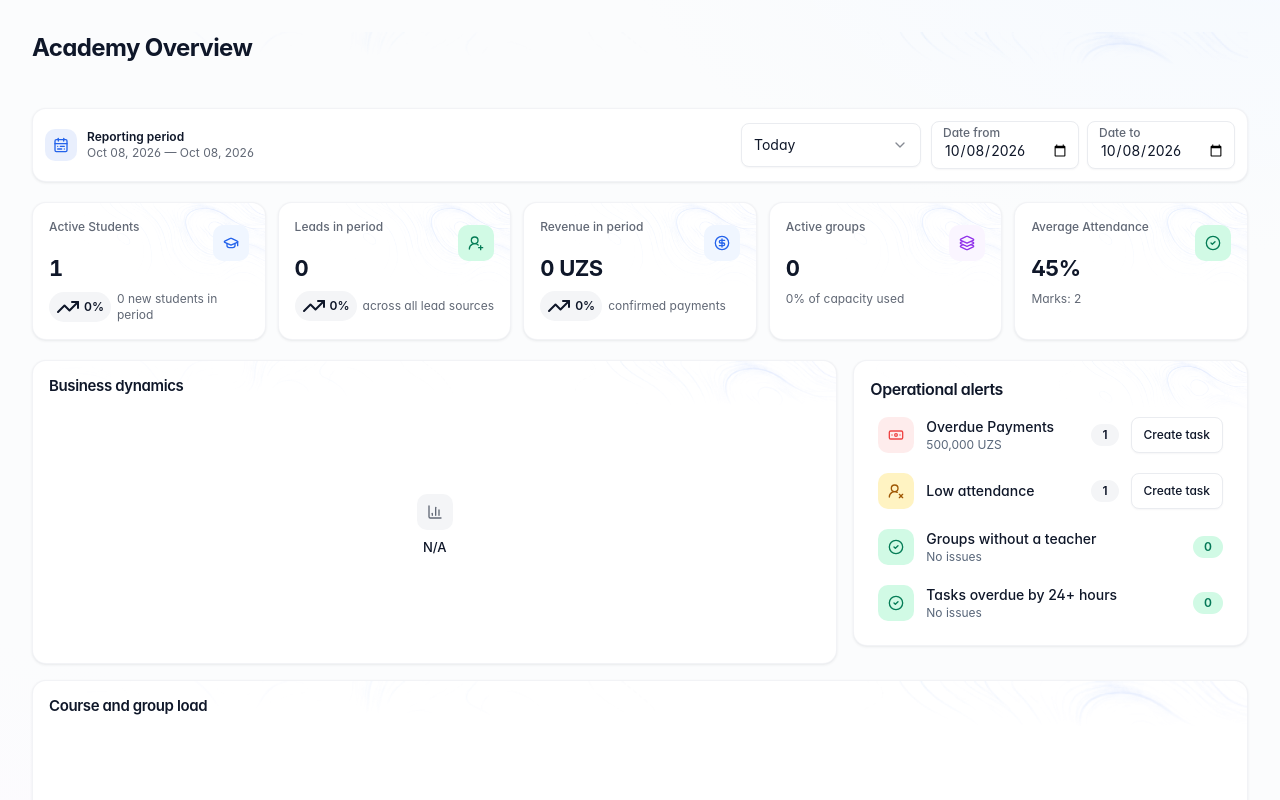
Test: opens payment and attendance alert records in admin dialogs without requiring sales navigation
Click the button "Overdue Payments 500,000 UZS 1" at (998, 434), box [878,416,1118,452]
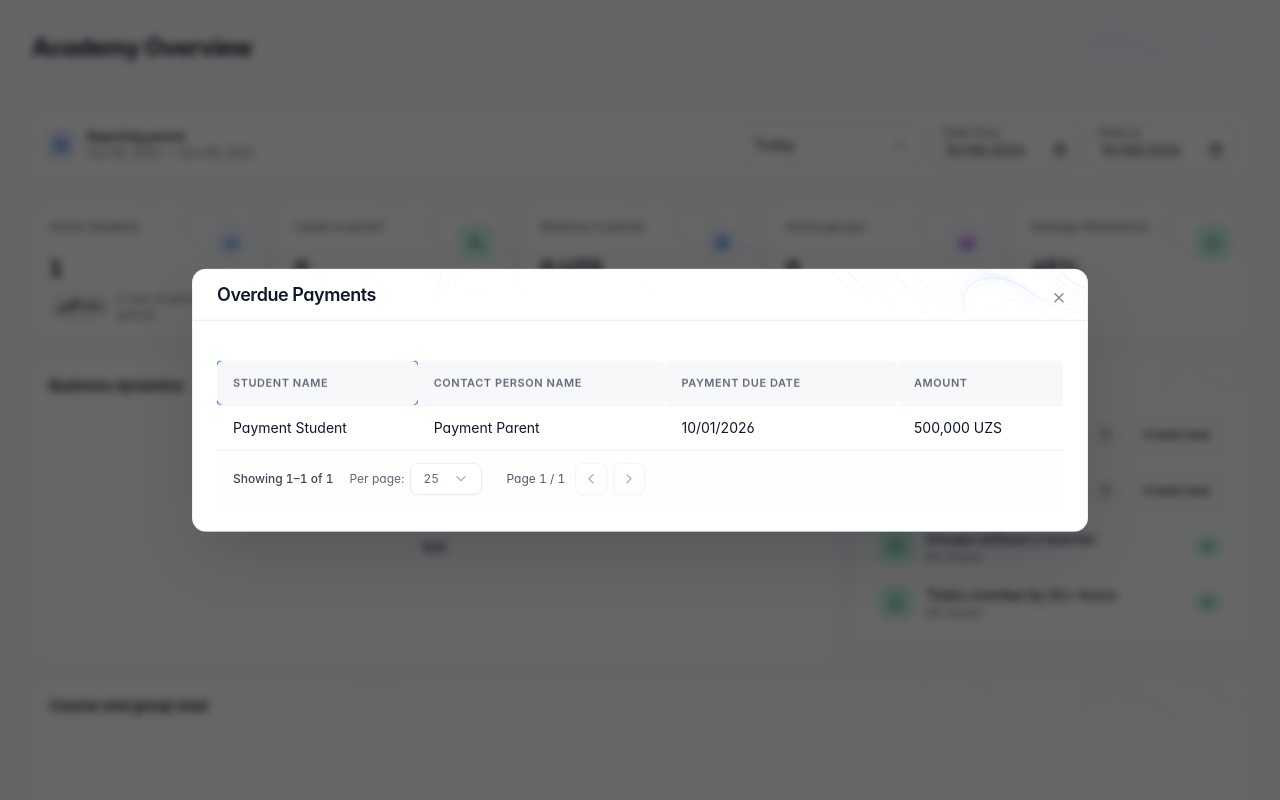
Check: the text "Payment Student" is shown, box [217,405,418,449]
Check: the text "Payment Parent" is shown, box [418,405,666,449]
Check: the text "500,000 UZS" is shown, box [898,405,1063,449]
Click the button named "Close" at (1059, 298), box [1047,286,1071,310]
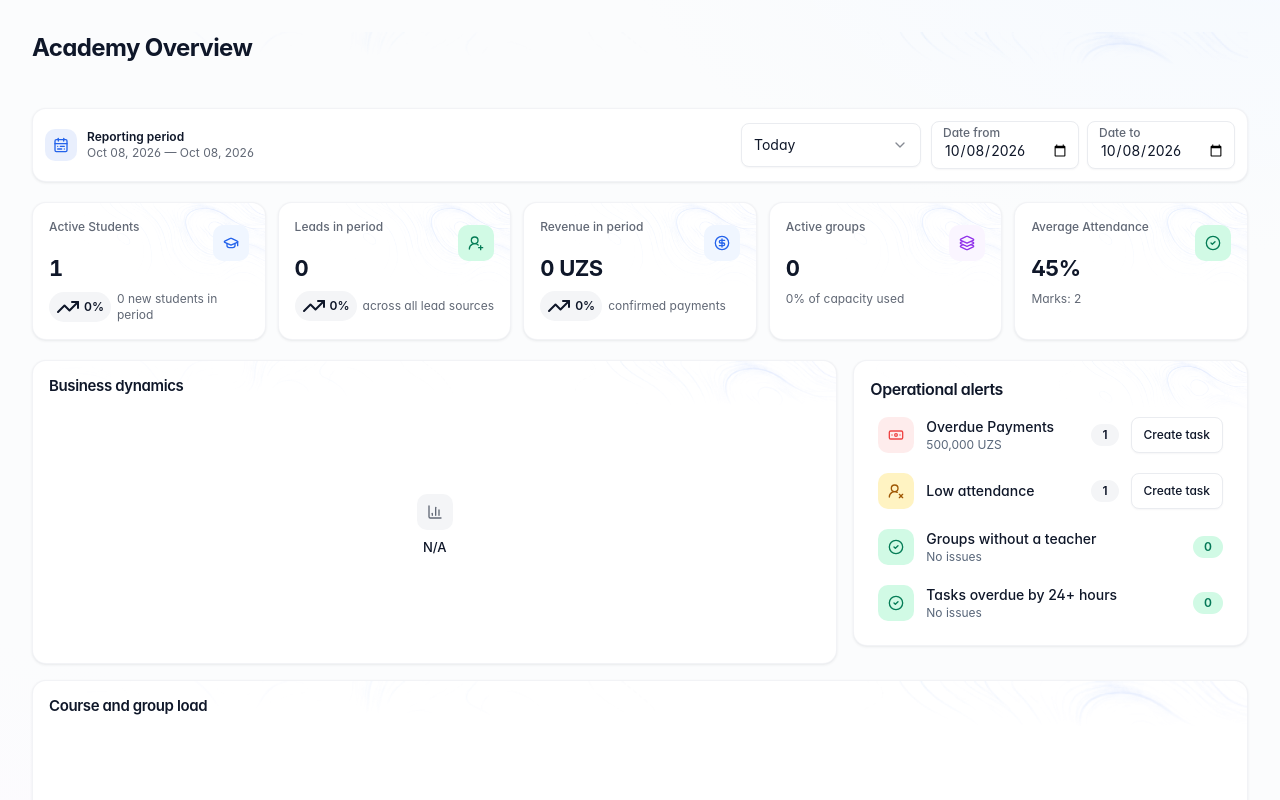
Click the button "Low attendance 1" at (998, 490), box [878,472,1118,508]
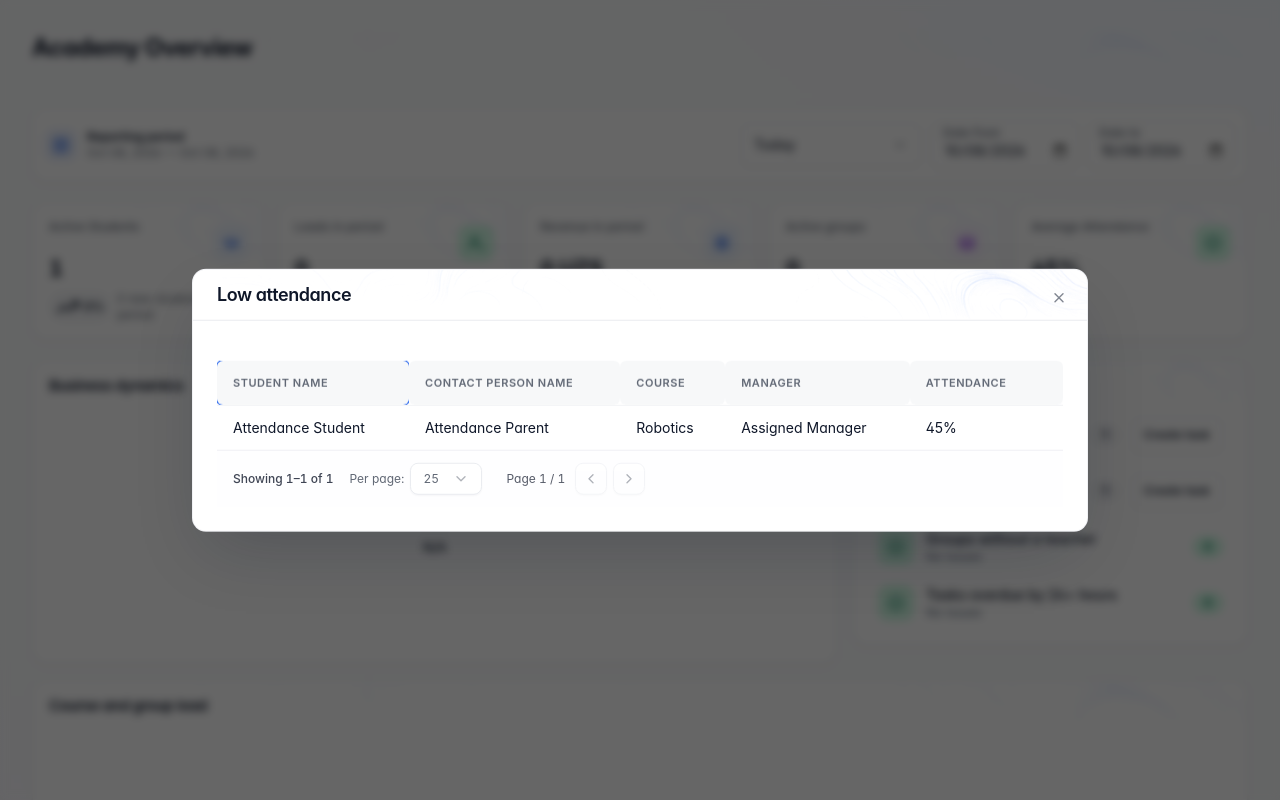
Check: the text "Attendance Student" is shown, box [217,405,409,449]
Check: the text "Robotics" is shown, box [620,405,725,449]
Check: the text "45%" is shown, box [910,405,1063,449]
